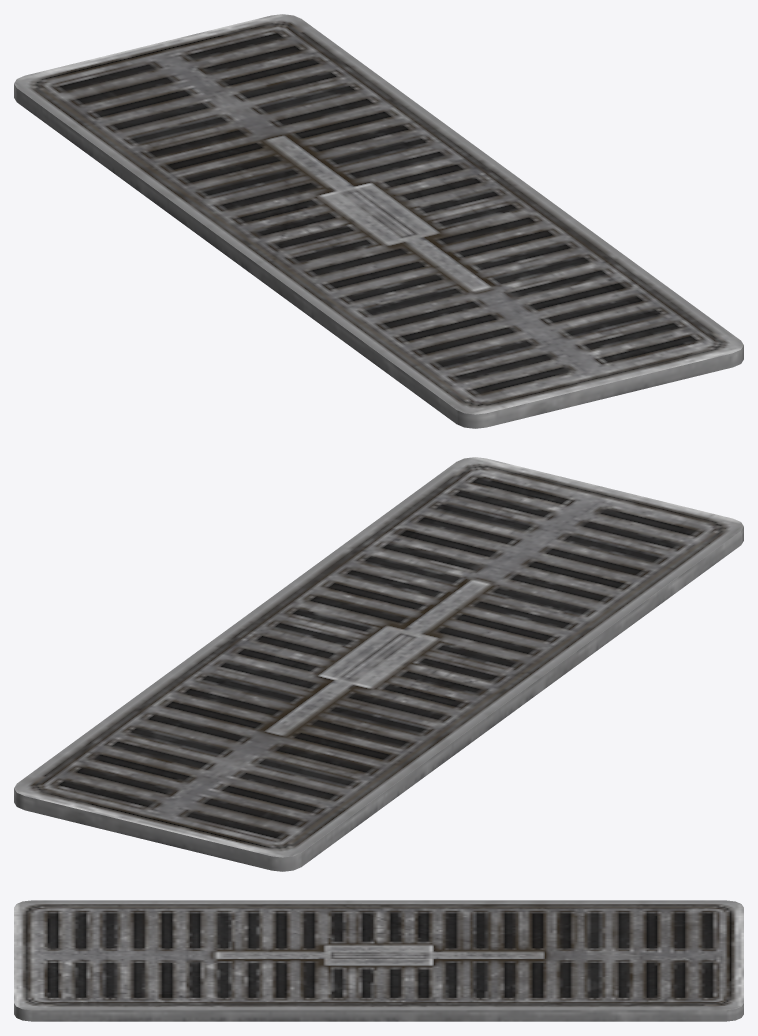
File: CP_Manhole_03.fbx
3 views of the same model, one above another, from view 1: azimuth 30°, elevation 25°; view 2: azimuth 150°, elevation 25°; view 3: azimuth 270°, elevation 25° (orthographic). The views are drawn at different scales.
Parts seen in each view (by area): view 1: CP_Manhole_03; view 2: CP_Manhole_03; view 3: CP_Manhole_03.
Part boxes in pixels (x1,y1,x2,y2): CP_Manhole_03: (14,14,743,428); CP_Manhole_03: (14,457,743,871); CP_Manhole_03: (14,900,743,1021).
Bounding box in the file's own units: 33.32 × 1.59 × 93.59.
